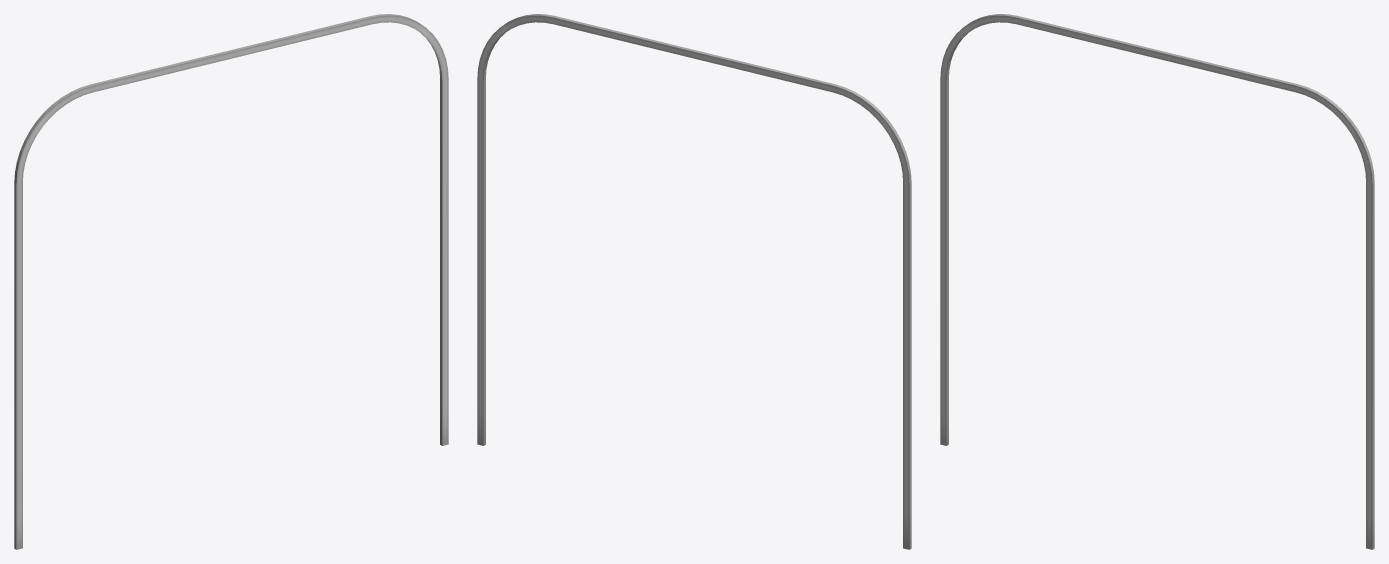
File: DoorFrameLight02_10.FBX
The picture shows the model from 3 angles, left to right: view 1: azimuth 30°, elevation 25°; view 2: azimuth 150°, elevation 25°; view 3: azimuth 330°, elevation 25°; orthographic projection.
Parts seen in each view (by area): view 1: DoorFrameLight02_10; view 2: DoorFrameLight02_10; view 3: DoorFrameLight02_10.
Part boxes in pixels (<box>): DoorFrameLight02_10: <box>14,14,448,549</box>; DoorFrameLight02_10: <box>477,14,911,549</box>; DoorFrameLight02_10: <box>940,14,1374,549</box>.
Bounding box in the file's own units: 309 × 305 × 2.56.
